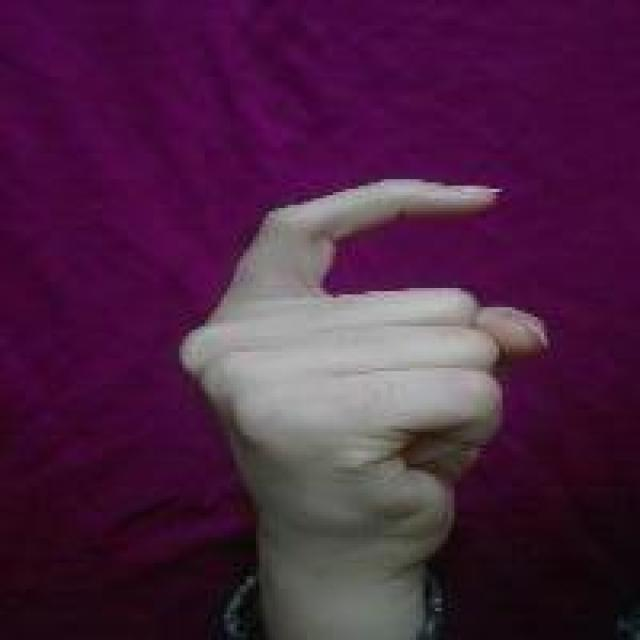X: (168, 168, 555, 562)
